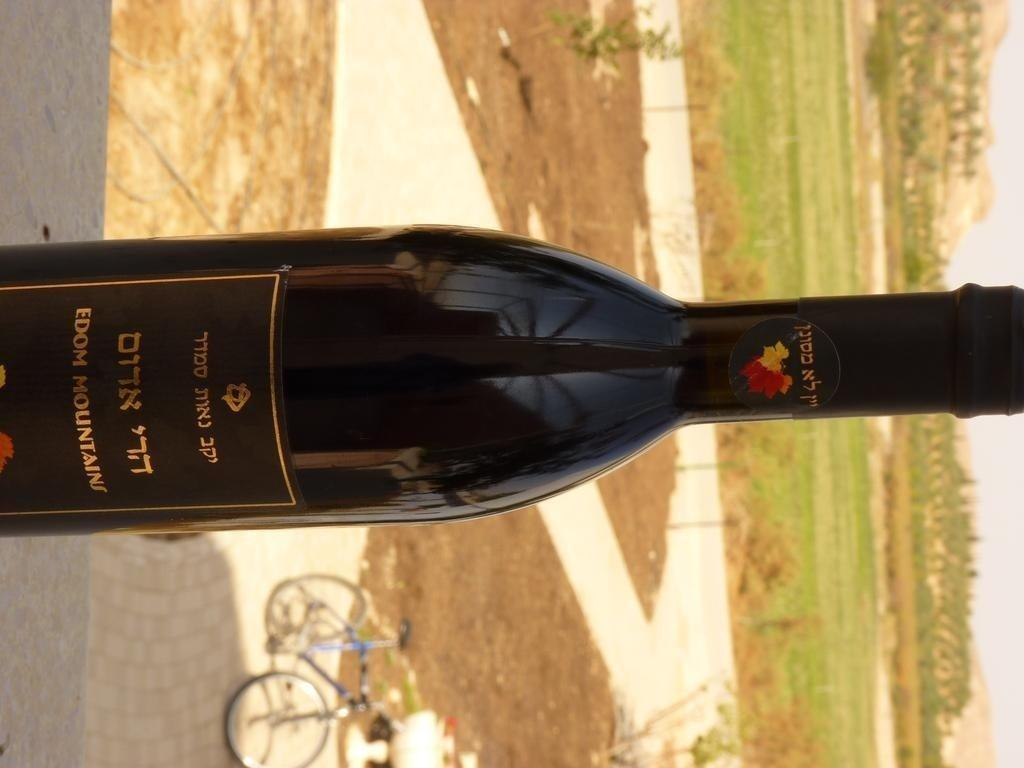bottle-glass: (1, 218, 1023, 543)
